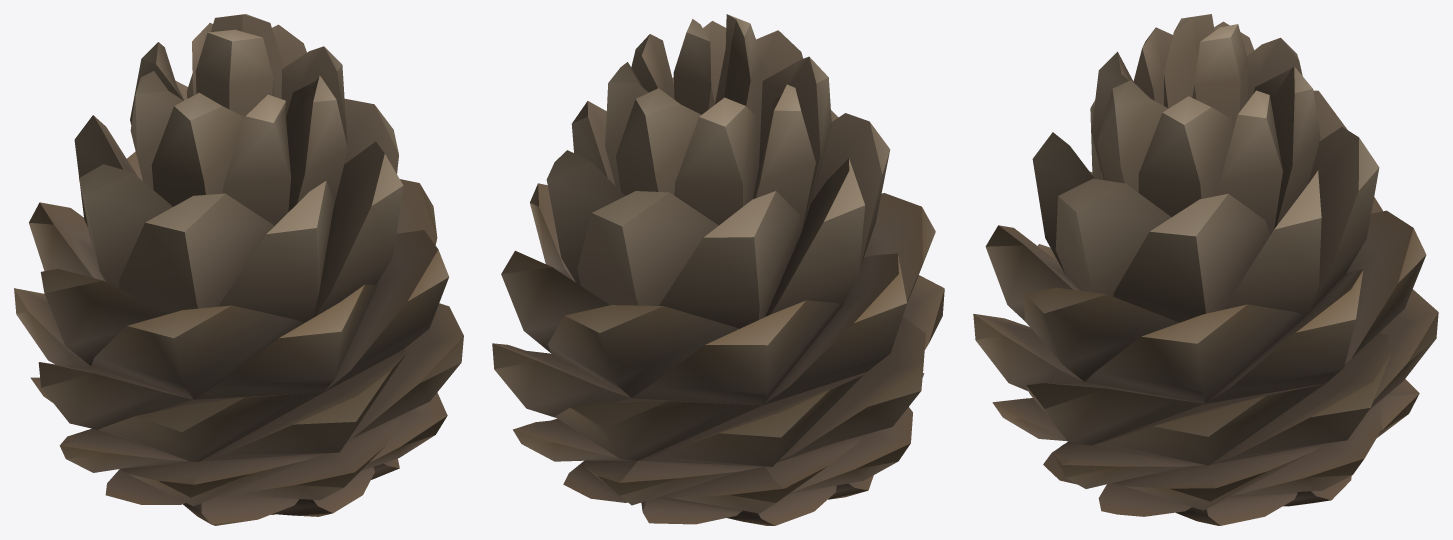
The model's file is Pinecone.glb.
The picture shows the model from 3 angles, left to right: view 1: azimuth 30°, elevation 25°; view 2: azimuth 150°, elevation 25°; view 3: azimuth 270°, elevation 25°; orthographic projection.
Parts seen in each view (by area): view 1: Pinecone; view 2: Pinecone; view 3: Pinecone.
Boxes of the visible parts, x1=… form: Pinecone: x1=14, y1=14, x2=463, y2=525; Pinecone: x1=492, y1=14, x2=944, y2=525; Pinecone: x1=973, y1=14, x2=1438, y2=525.
Bounding box in the file's own units: 0.9013 × 0.9982 × 0.9013.
